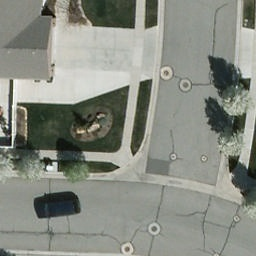car: (33, 199, 82, 219)
